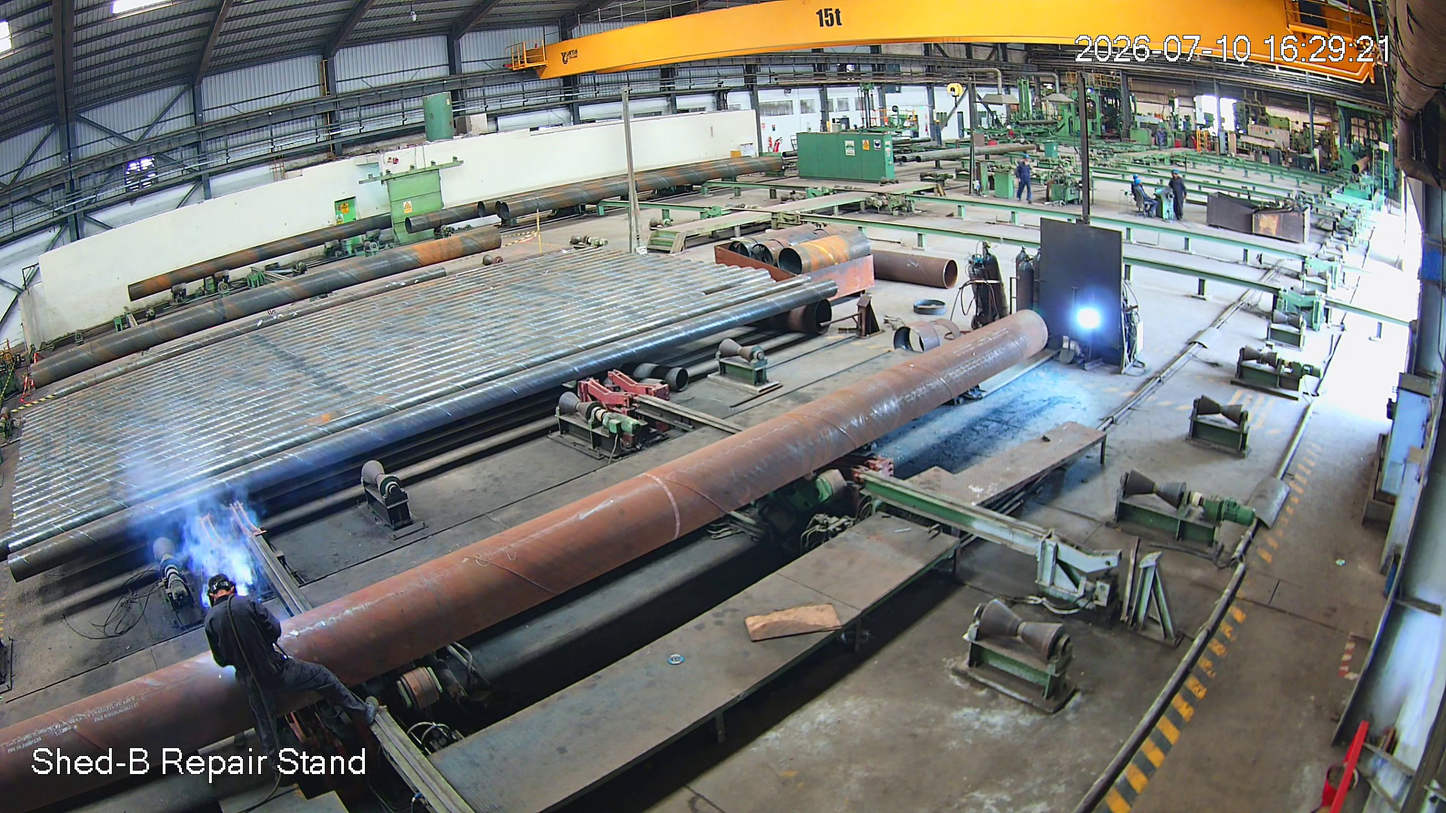Helmet: (197, 571, 247, 617)
Person: (203, 567, 389, 782)
